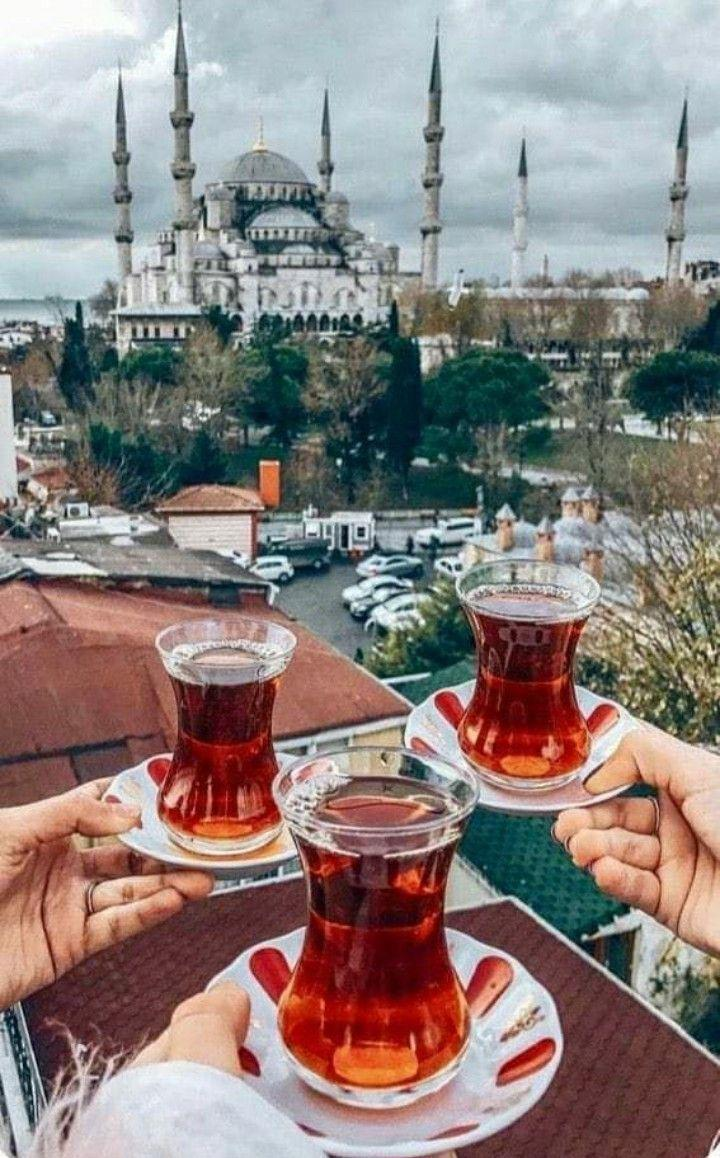glass-normal: (269, 738, 480, 1100), (149, 609, 299, 856), (454, 553, 601, 794)
